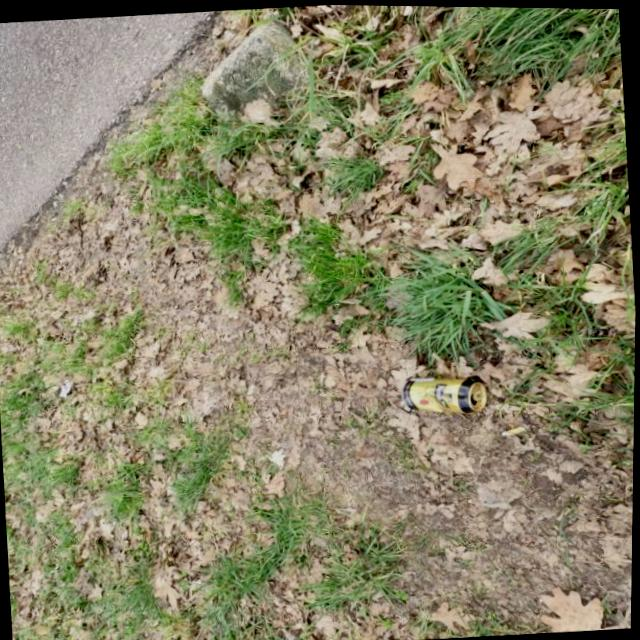Can-Metal: (401, 367, 491, 417)
